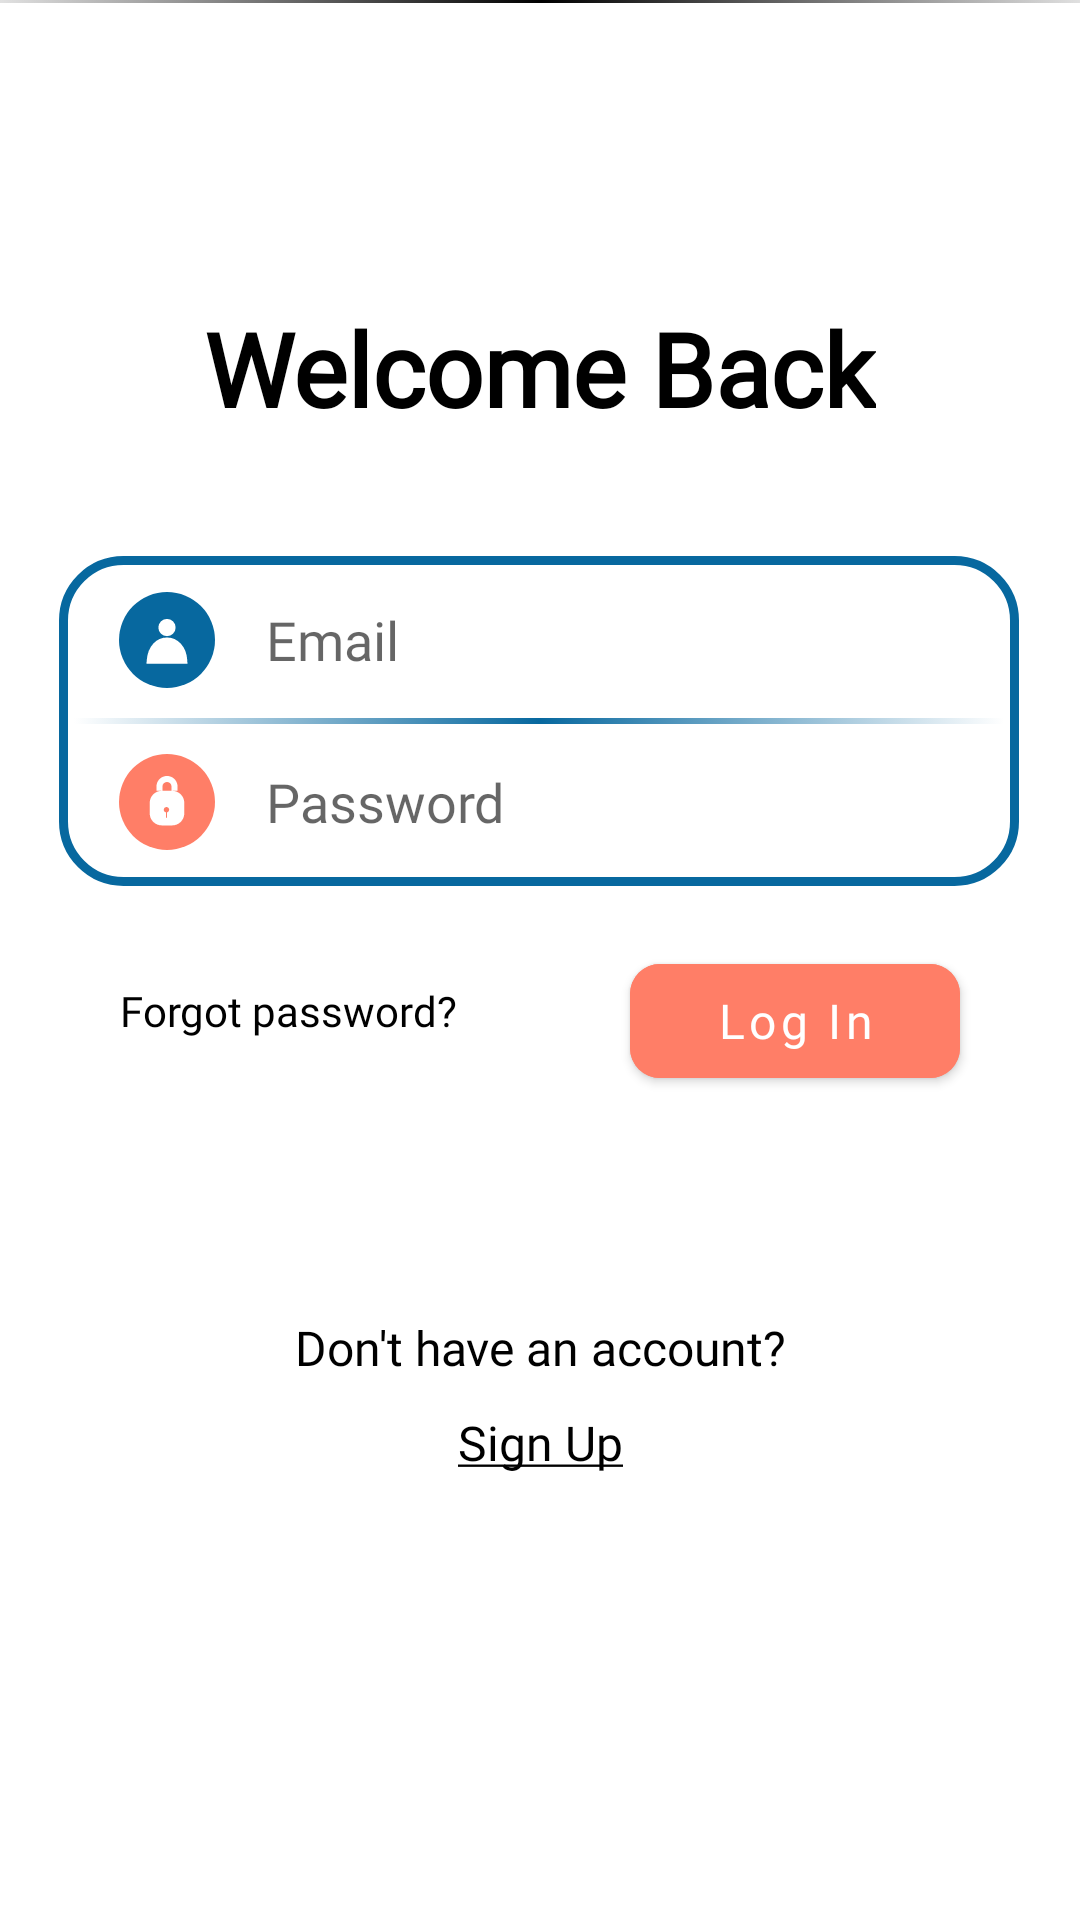

Screen size 1080w x 1920h. Icon name, then its box in pixels as (left=x1, top=y1, right=x2, bottom=y2):
user: (left=119, top=592, right=215, bottom=688)
